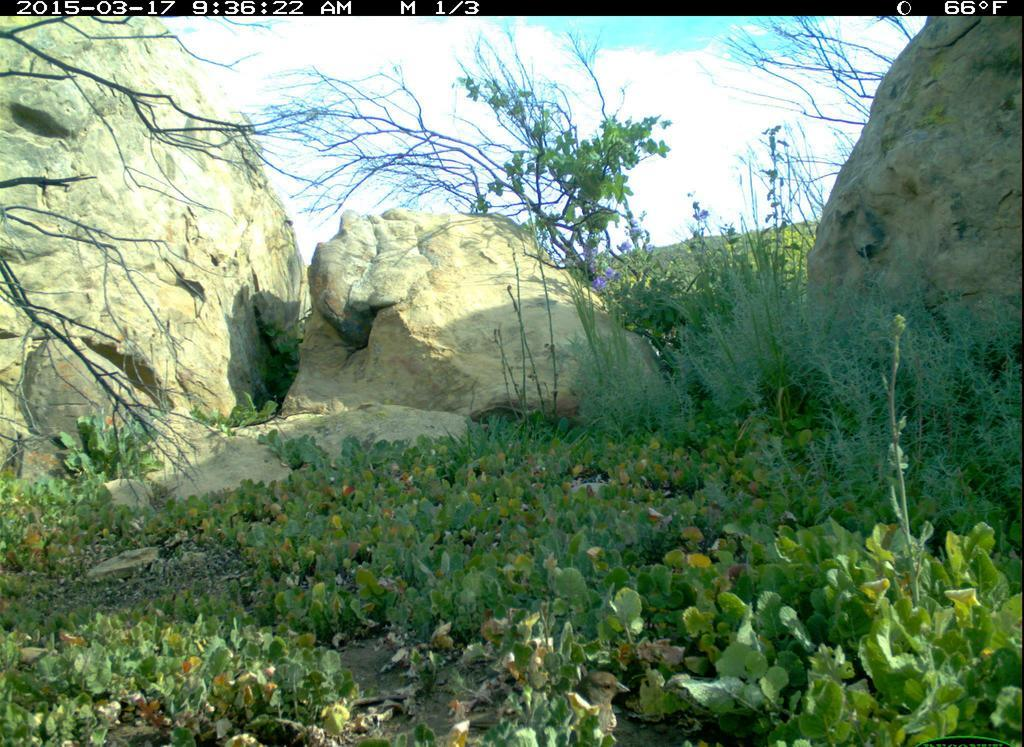bird: (462, 666, 634, 747)
